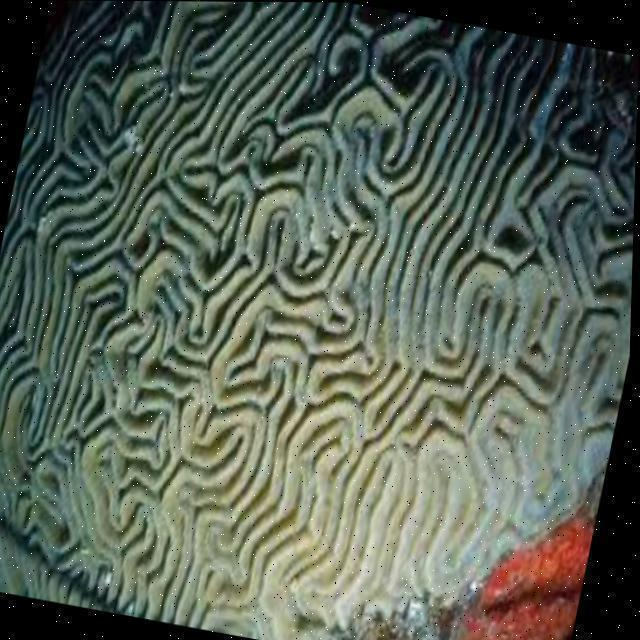Bleached Coral: (0, 51, 634, 640)
